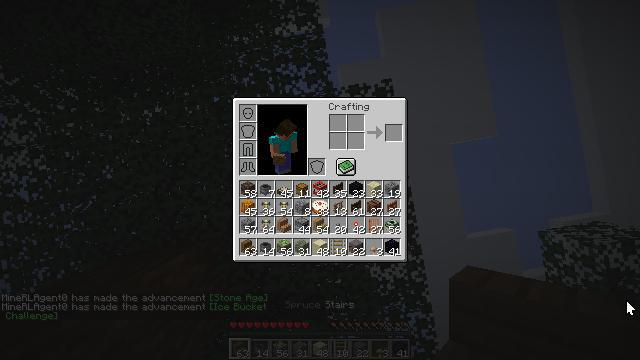cursor: (626, 300, 636, 316)
